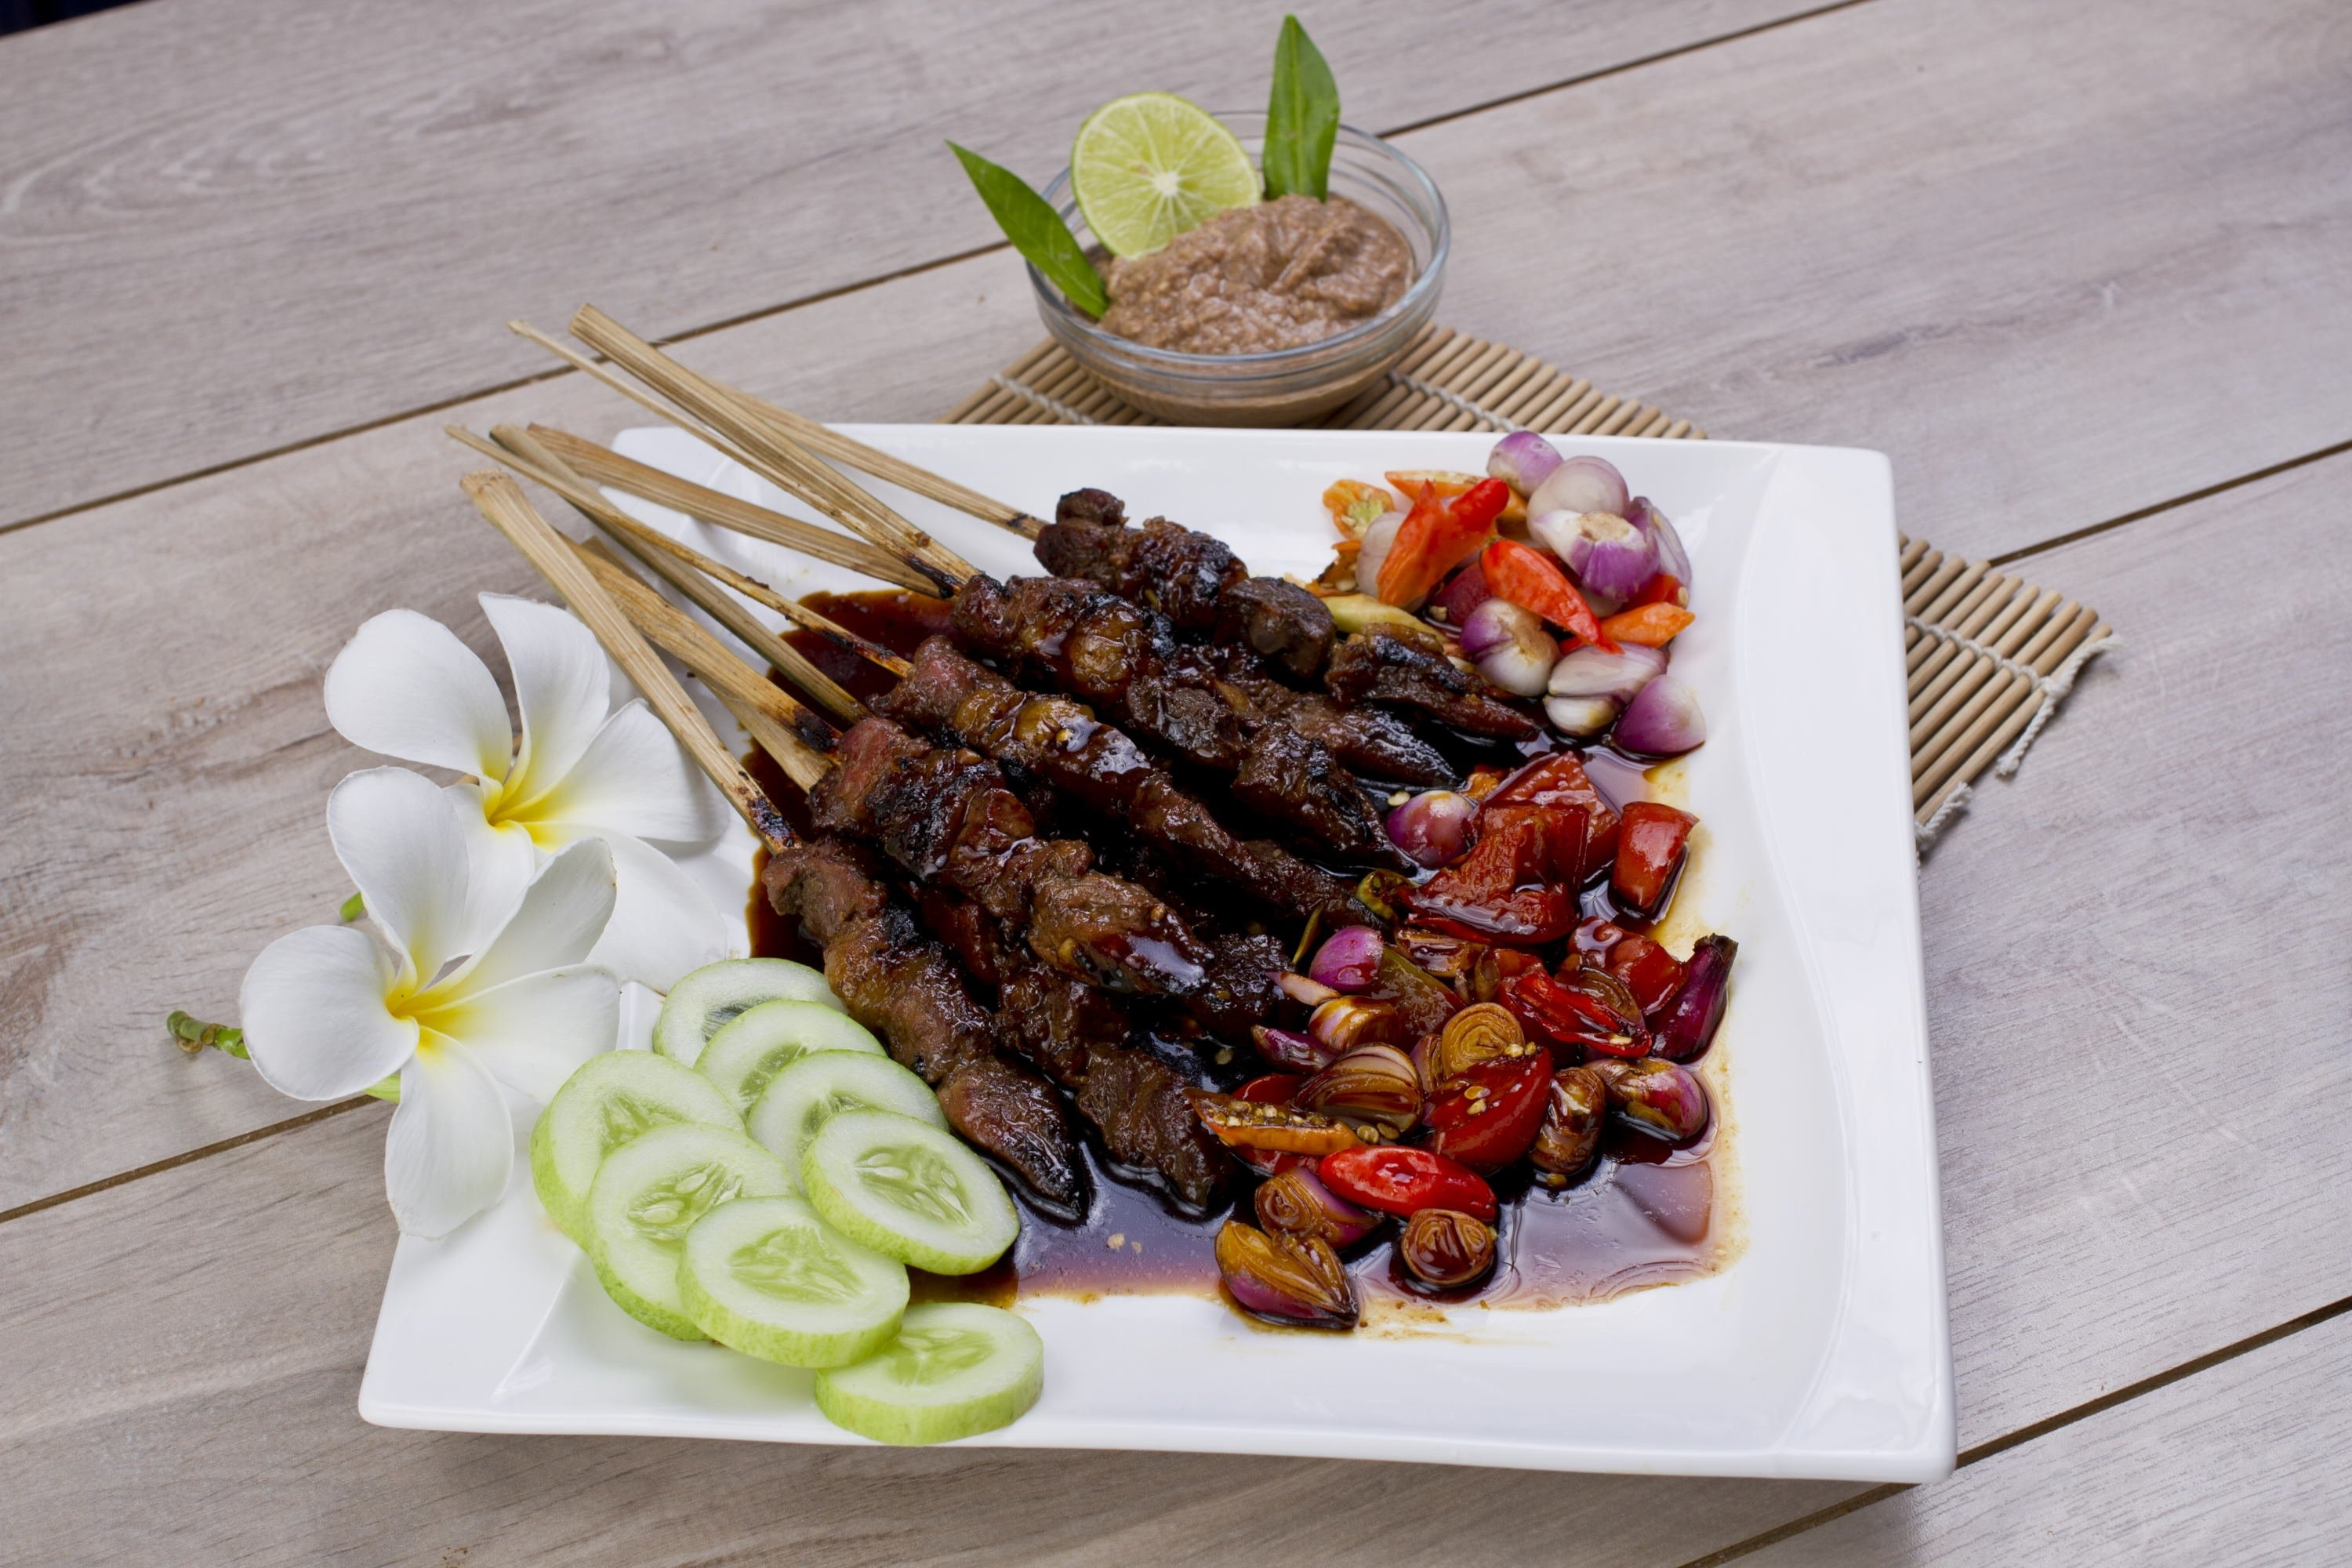sate: (710, 473, 1540, 1239)
